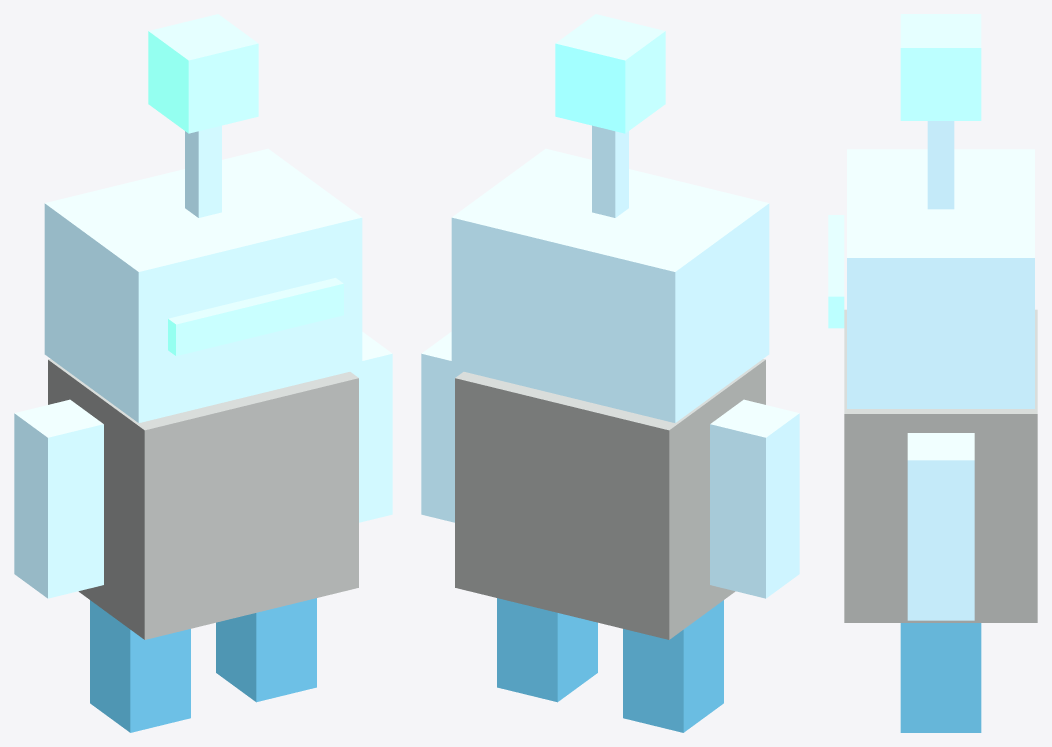
File: robotics-scout.glb
3 renders of one model, left to right at view 1: azimuth 30°, elevation 25°; view 2: azimuth 150°, elevation 25°; view 3: azimuth 270°, elevation 25°, orthographic.
Visible parts, largest first — view 1: Head, Torso, LeftArm, Beacon, LeftLeg, RightLeg, Visor, RightArm, Antenna; view 2: Head, Torso, LeftArm, Beacon, LeftLeg, RightLeg, RightArm, Antenna; view 3: Head, Torso, RightArm, RightLeg, Beacon, Antenna, Visor.
Part boxes in pixels (left/top/right/bottom): Head: left=44, top=148, right=362, bottom=422; Torso: left=48, top=359, right=358, bottom=639; LeftArm: left=14, top=399, right=103, bottom=598; Beacon: left=148, top=14, right=258, bottom=133; LeftLeg: left=90, top=600, right=190, bottom=732; RightLeg: left=216, top=598, right=316, bottom=702; Visor: left=168, top=278, right=343, bottom=356; RightArm: left=350, top=332, right=392, bottom=522; Antenna: left=185, top=125, right=221, bottom=217; Head: left=451, top=148, right=769, bottom=422; Torso: left=455, top=359, right=765, bottom=639; LeftArm: left=710, top=399, right=799, bottom=598; Beacon: left=555, top=14, right=665, bottom=133; LeftLeg: left=623, top=600, right=723, bottom=732; RightLeg: left=497, top=598, right=597, bottom=702; RightArm: left=421, top=332, right=463, bottom=522; Antenna: left=592, top=125, right=628, bottom=217; Head: left=847, top=149, right=1034, bottom=408; Torso: left=844, top=309, right=1037, bottom=622; RightArm: left=907, top=433, right=974, bottom=620; RightLeg: left=900, top=623, right=981, bottom=732; Beacon: left=900, top=14, right=981, bottom=120; Antenna: left=927, top=121, right=954, bottom=209; Visor: left=828, top=215, right=844, bottom=328.
Bounding box in the file's own units: 1.48 × 2.7 × 0.78.
